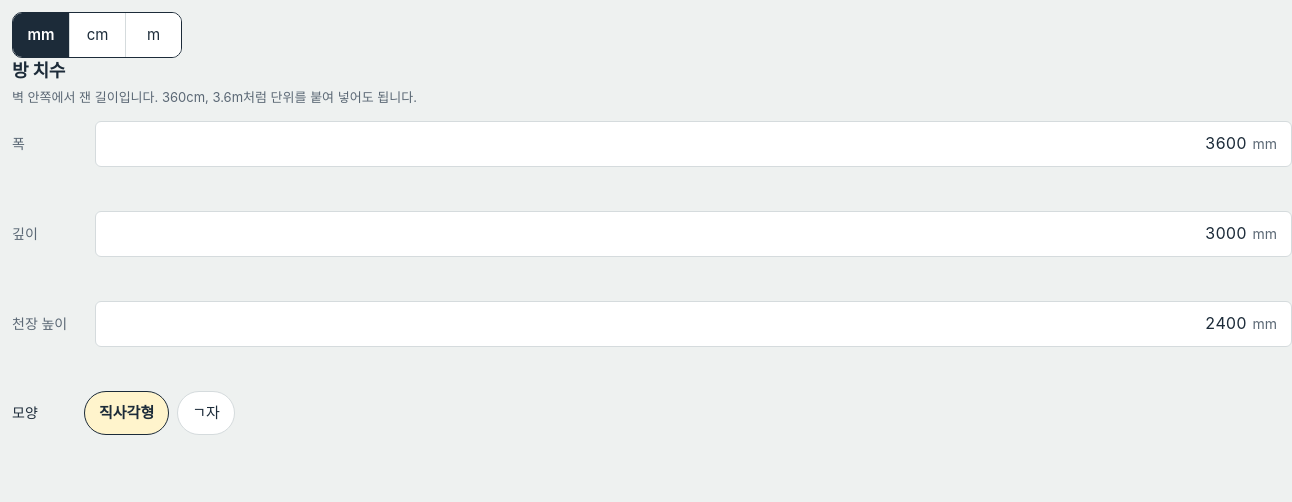
RoomPanel › R-5 room-width: 999, 1000, 15000, 15001이 모두 반영되고 999와 15001일 때만 경고가 보인다
The width and height of the screenshot is (1292, 502).
Replace the text in the field with test id "room-width" with "999" at {"x": 674, "y": 144}, box [96, 122, 1252, 166]
Press Enter
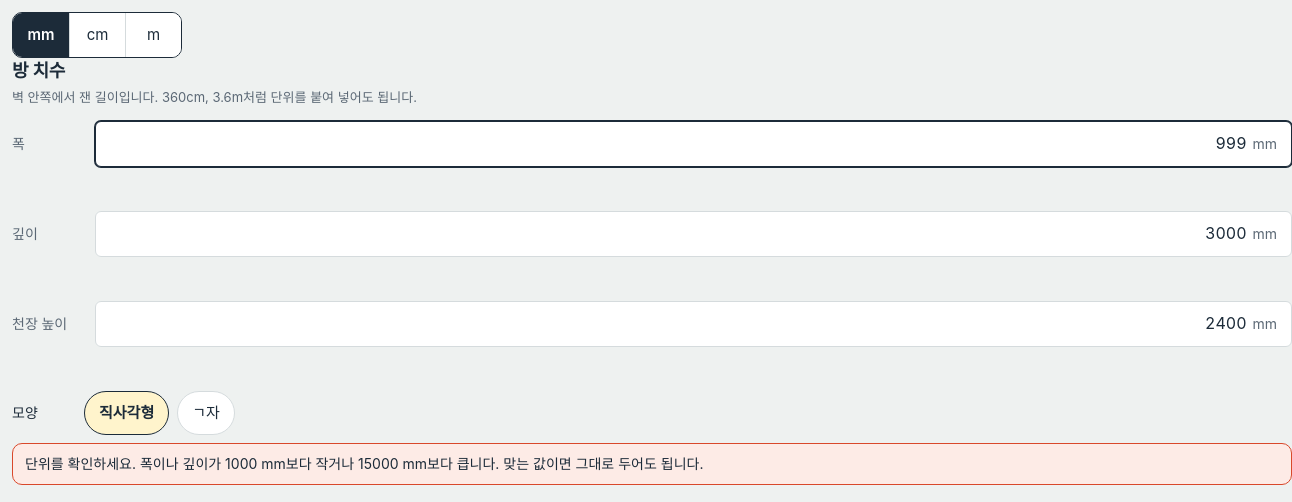
expect the message with test id "room-unit-warning" shows "단위를 확인하세요": met, box [25, 455, 225, 472]
Replace the text in the field with test id "room-width" with "1000" at {"x": 674, "y": 144}, box [96, 122, 1252, 166]
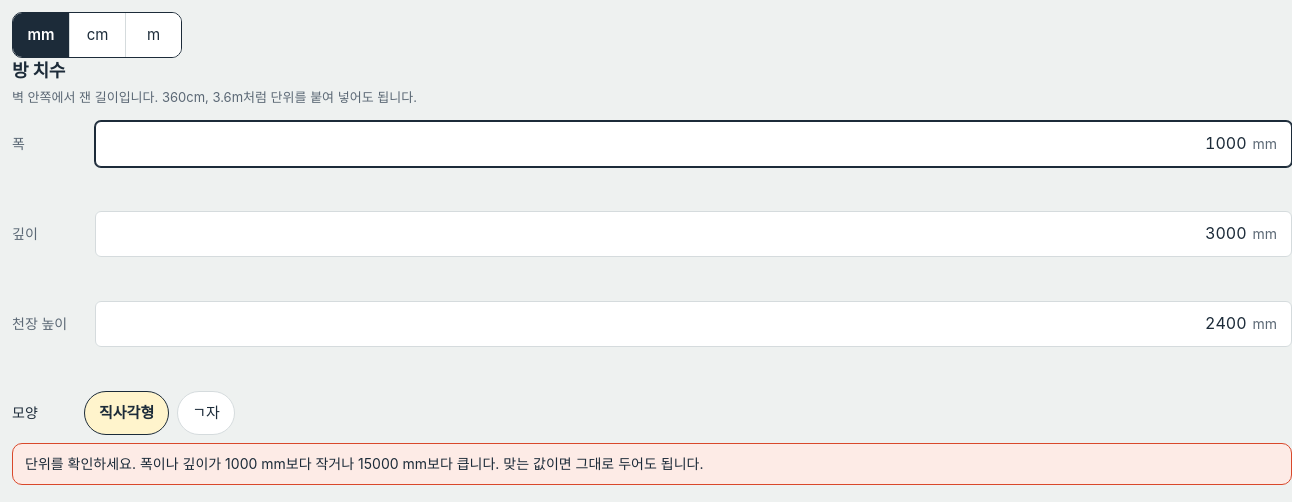
Press Enter
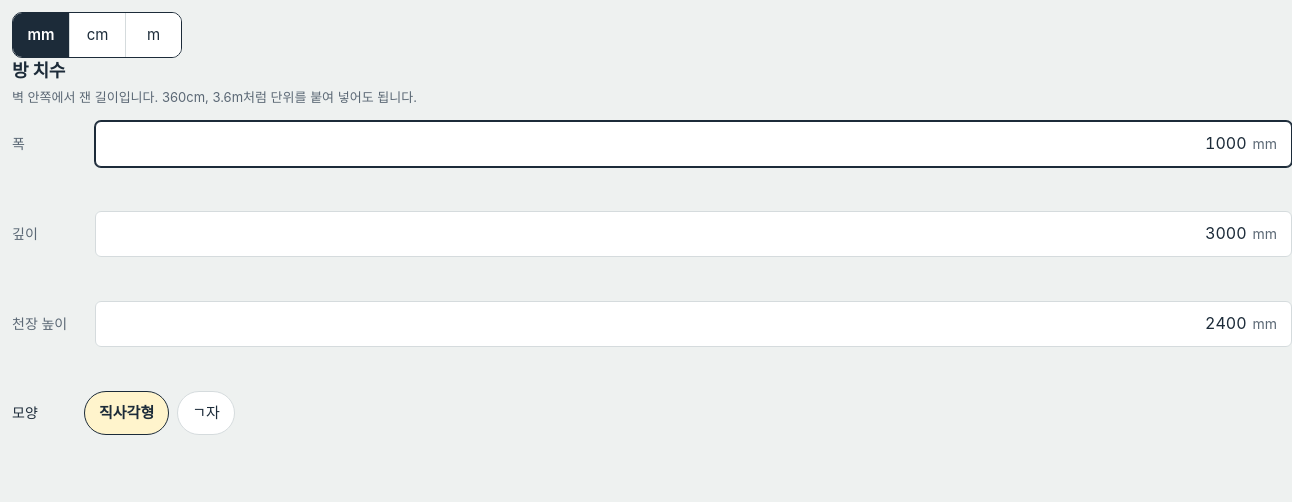
expect the message with test id "room-unit-warning" is gone: met
Replace the text in the field with test id "room-width" with "15000" at {"x": 674, "y": 144}, box [96, 122, 1252, 166]
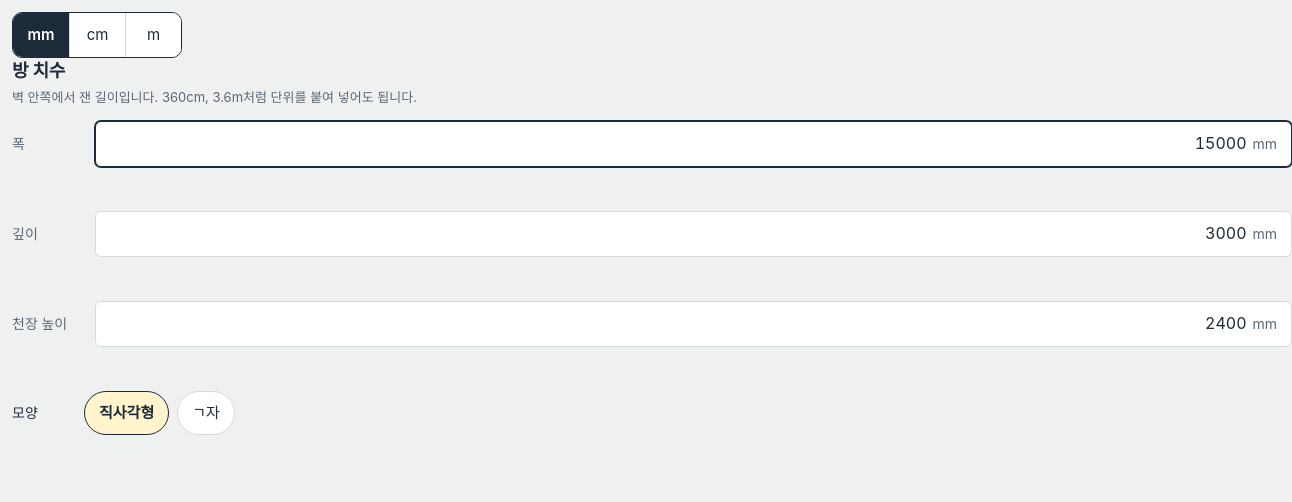
Press Enter
Replace the text in the field with test id "room-width" with "15001" at {"x": 674, "y": 144}, box [96, 122, 1252, 166]
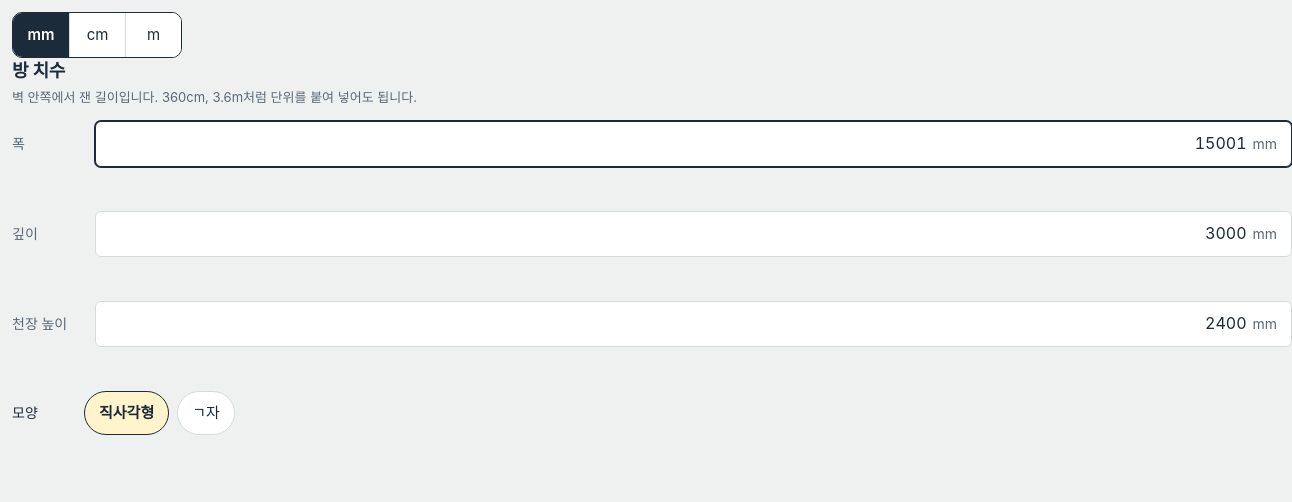
Press Enter
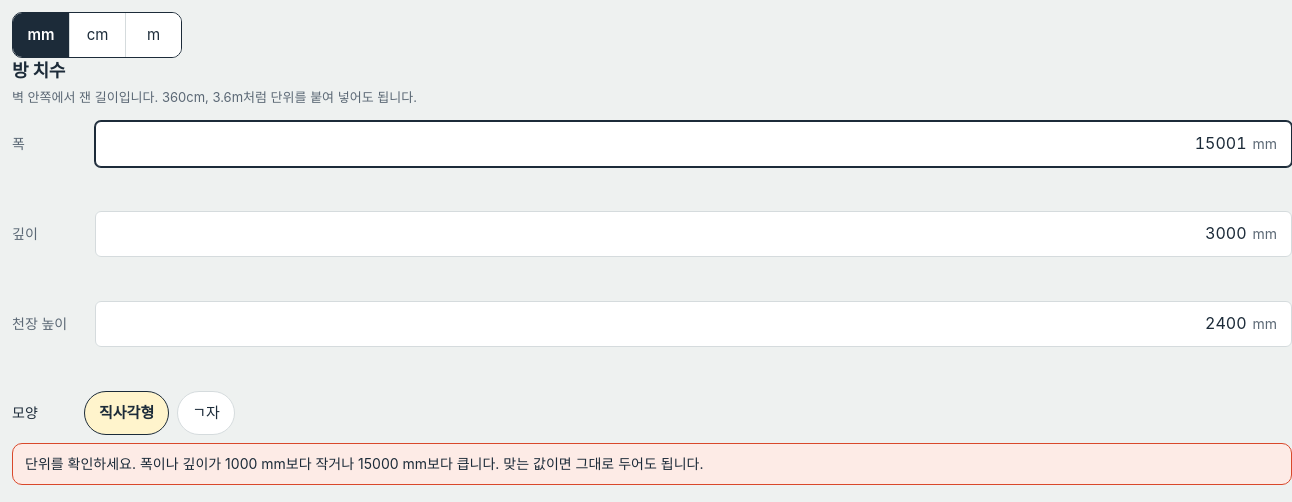
expect the message with test id "room-unit-warning" shows "단위를 확인하세요": met, box [25, 455, 225, 472]
